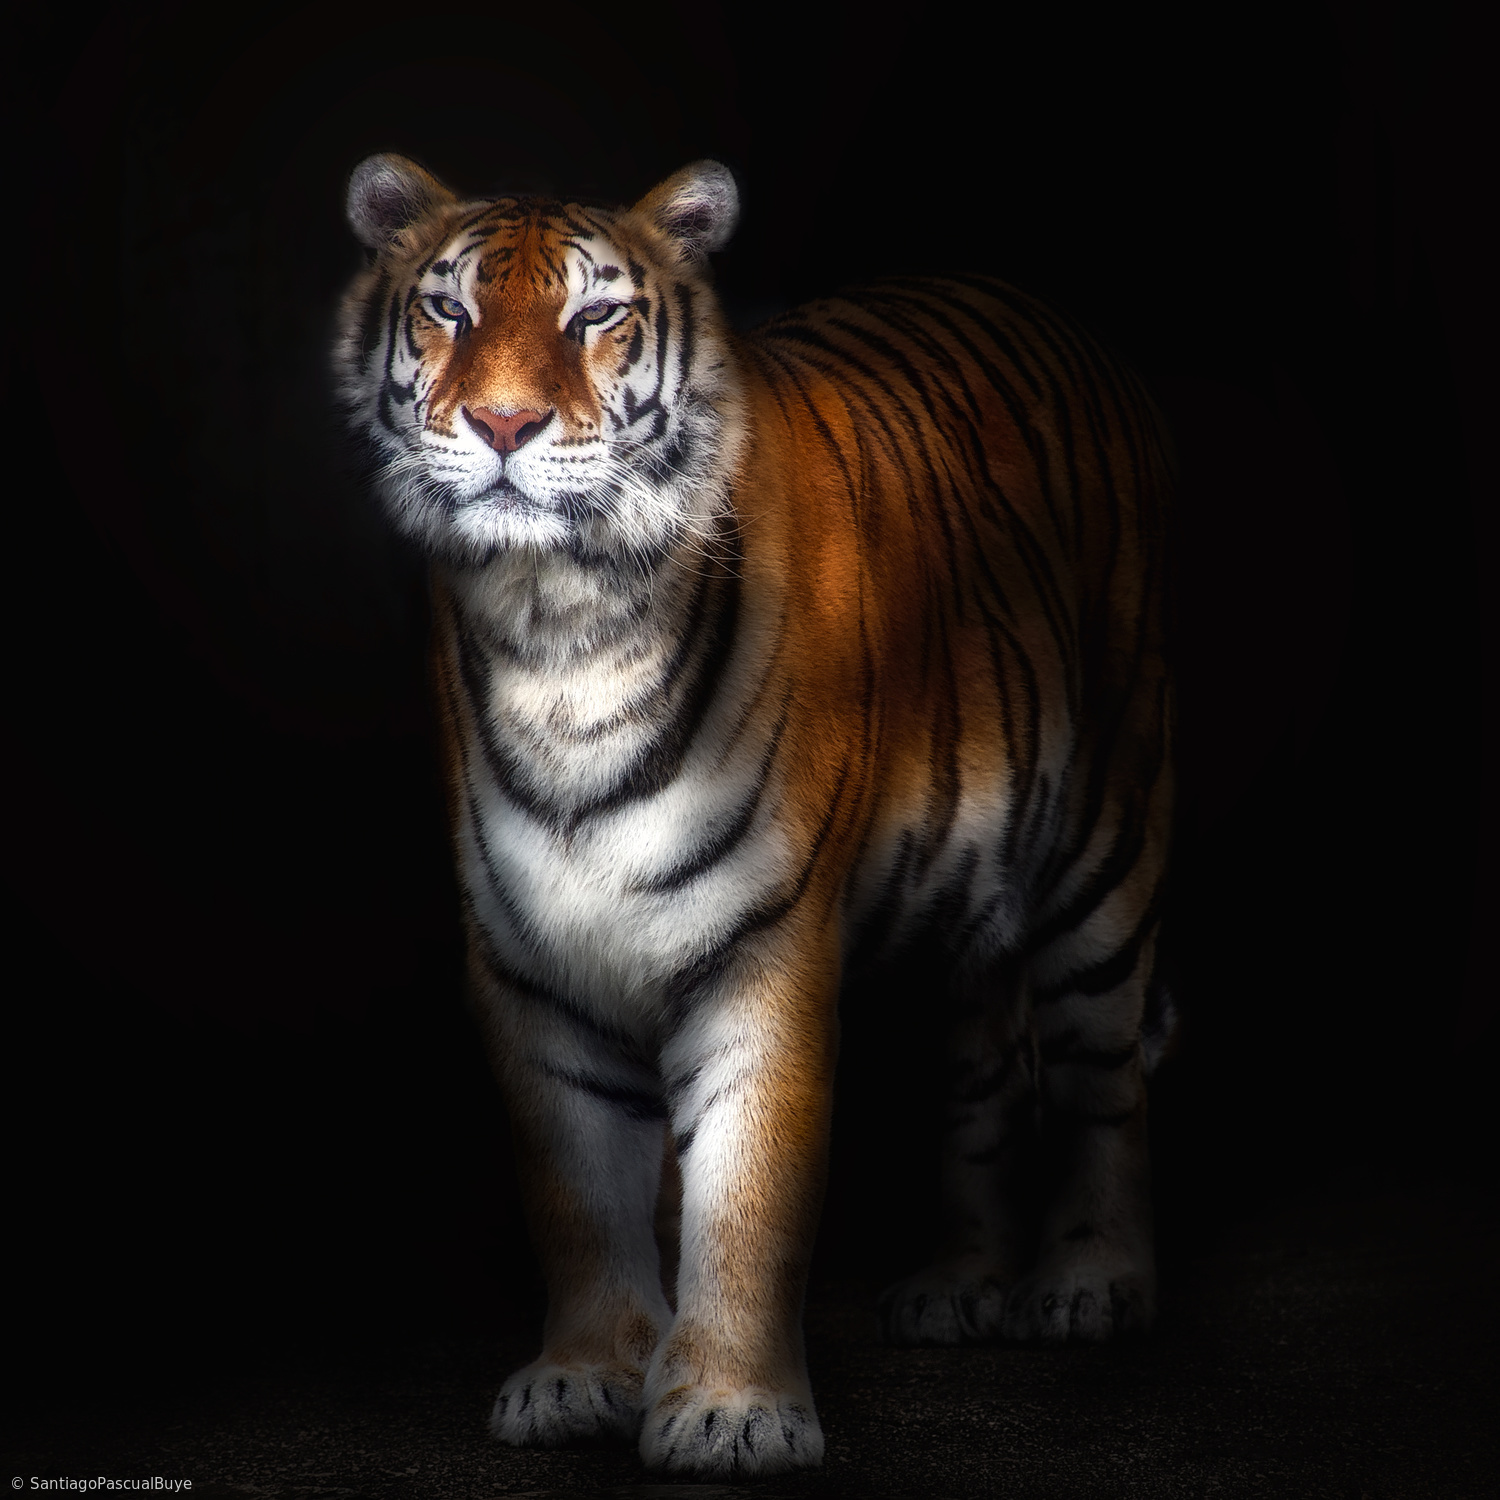tiger: (247, 120, 1250, 1477)
